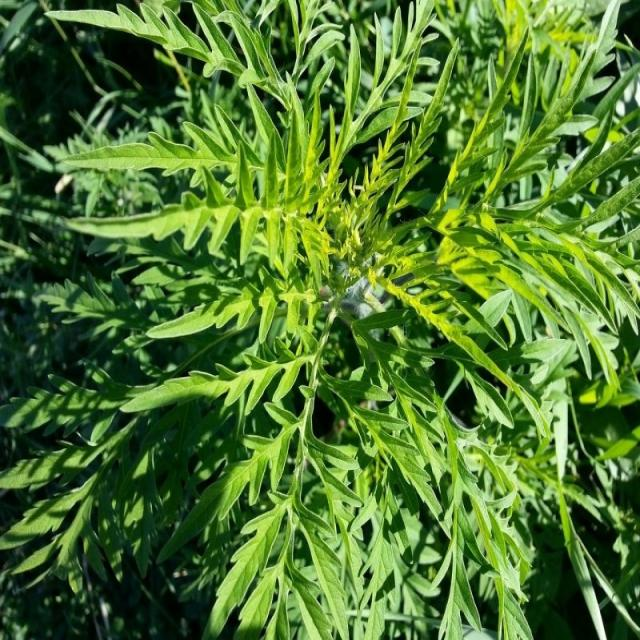ambrosia: (110, 104, 588, 515)
